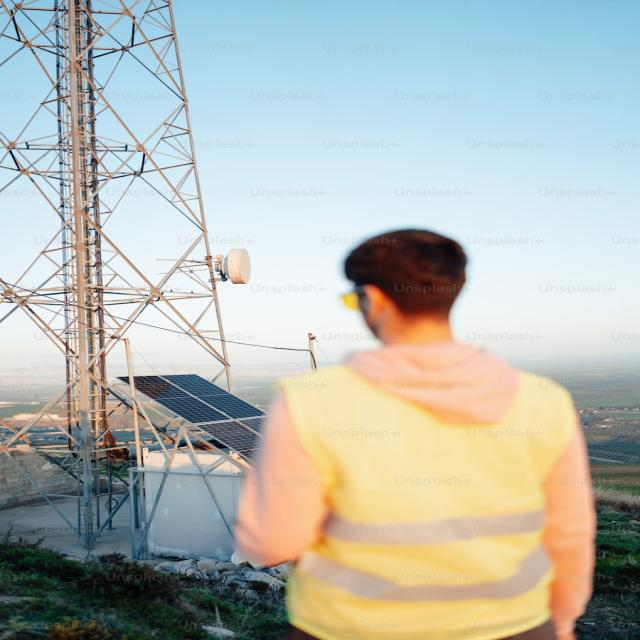transmission tower: (0, 0, 256, 535)
